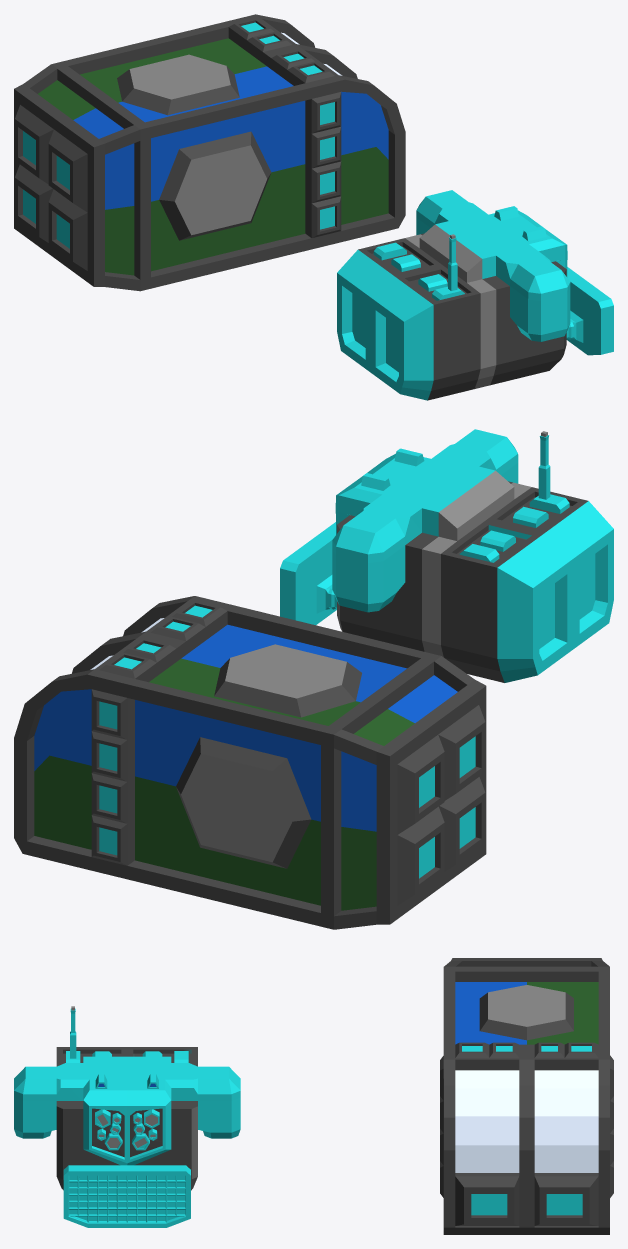
Rendered from CollectionBot.fbx.
3 views of the same model, one above another, from view 1: azimuth 30°, elevation 25°; view 2: azimuth 150°, elevation 25°; view 3: azimuth 270°, elevation 25° (orthographic). The views are drawn at different scales.
Visible parts, largest first — view 1: Drone, CollectorBot; view 2: Drone, CollectorBot; view 3: Drone, CollectorBot.
Boxes of the visible parts, x1,y1,x2,y2 form: Drone: (14,14,405,291); CollectorBot: (337,190,613,400); Drone: (14,596,486,929); CollectorBot: (280,429,613,682); Drone: (440,958,613,1234); CollectorBot: (14,1006,240,1227).
Bounding box in the file's own units: 1.81 × 0.9483 × 3.12.
